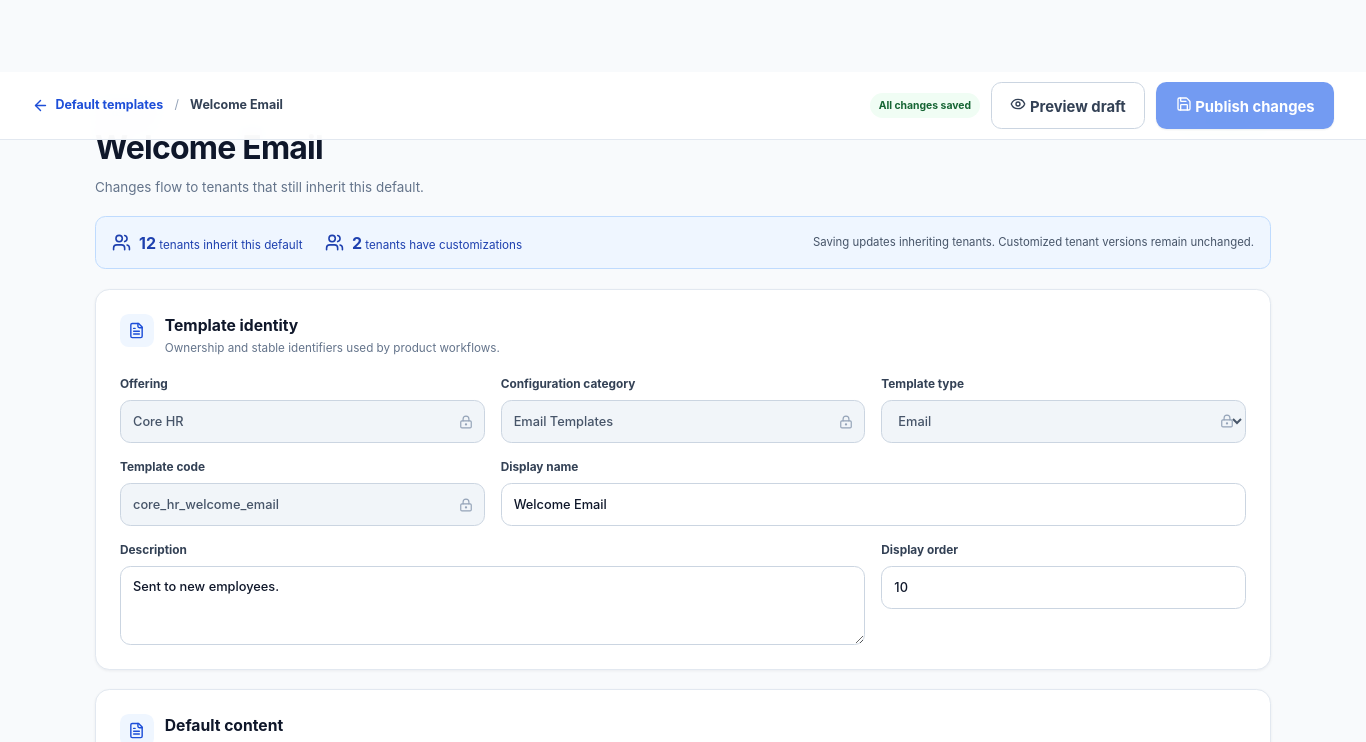
Test: DefaultTemplateEditorPage › locks immutable edit identity and protects dirty navigation
Expected: the heading "Welcome Email" is shown, [95,128,323,167]
Expected: the field labelled "Template code" is disabled, [120,483,485,526]
Clear the field labelled "Display name" at (873, 504), box [501,483,1246,526]
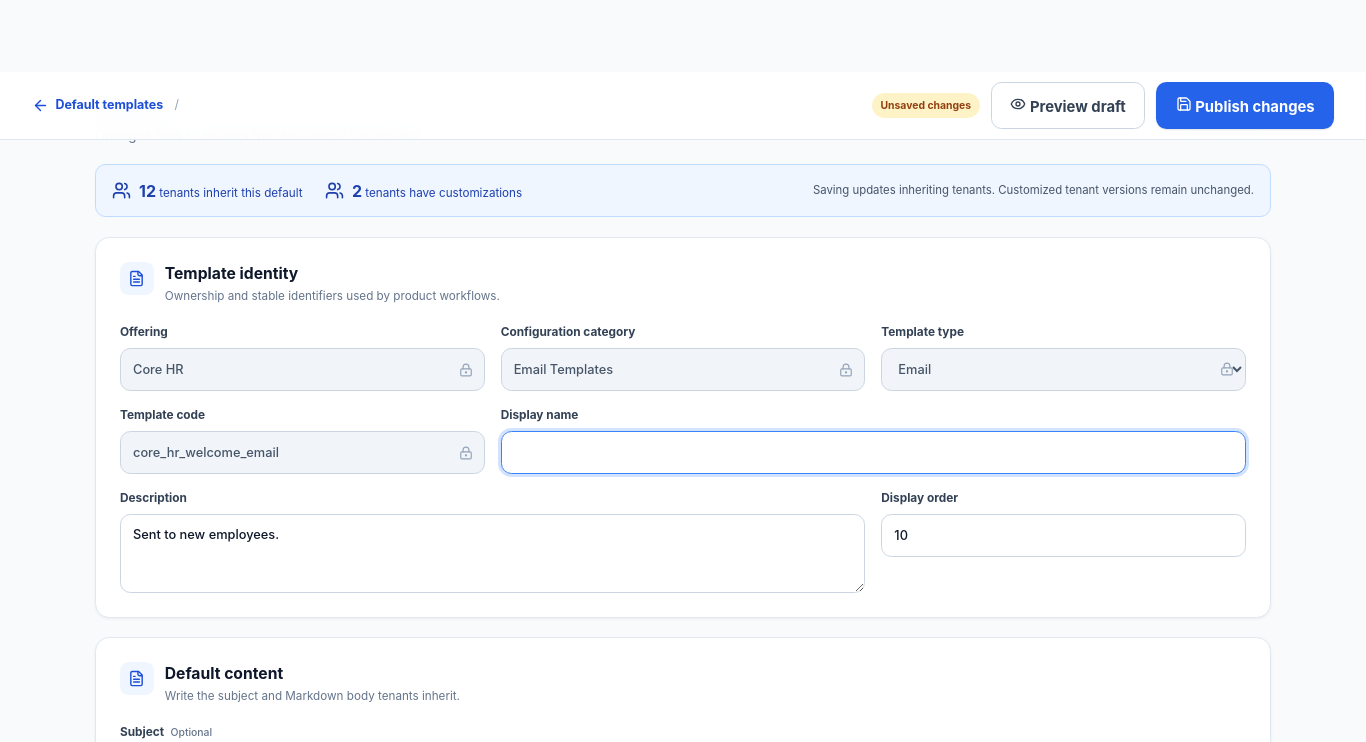
Type "Updated Welcome" into the field labelled "Display name" at (873, 452), box [501,431,1246,474]
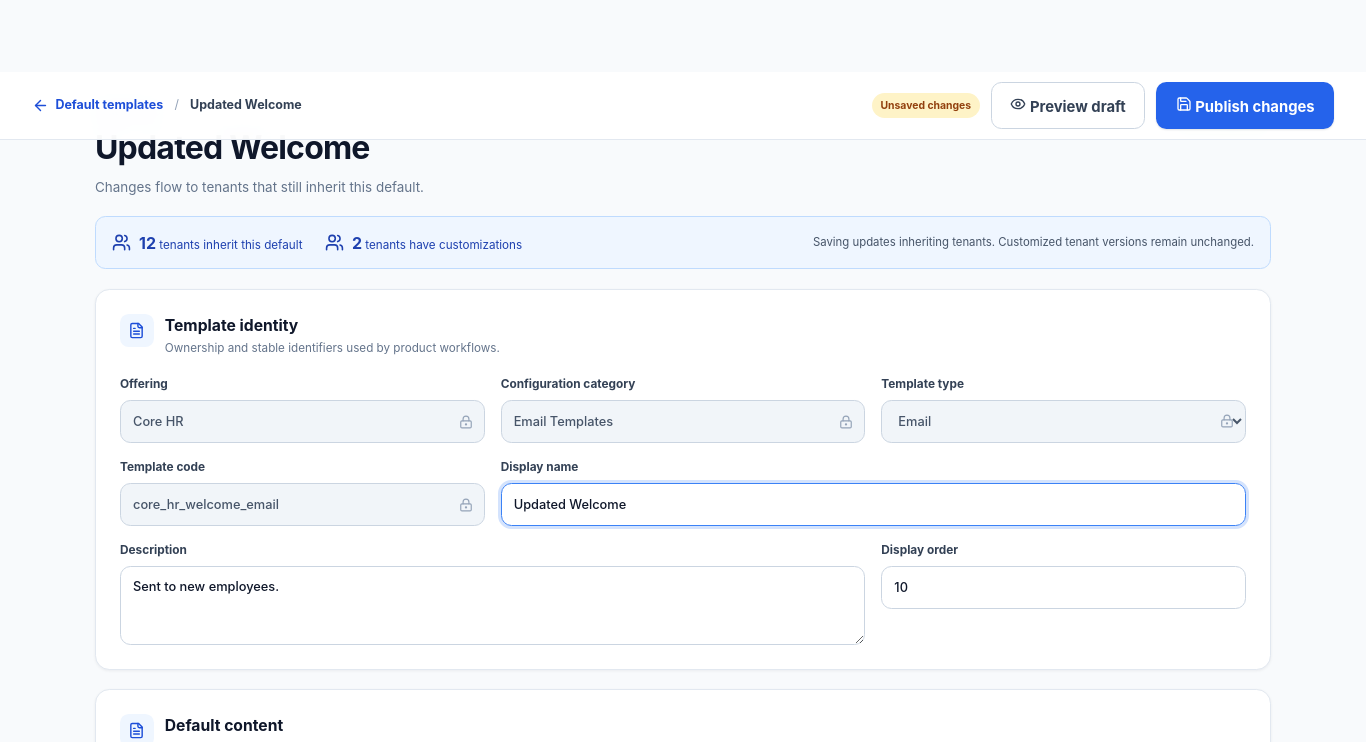
Click the link "Default templates" at (98, 106), box [32,96,163,115]
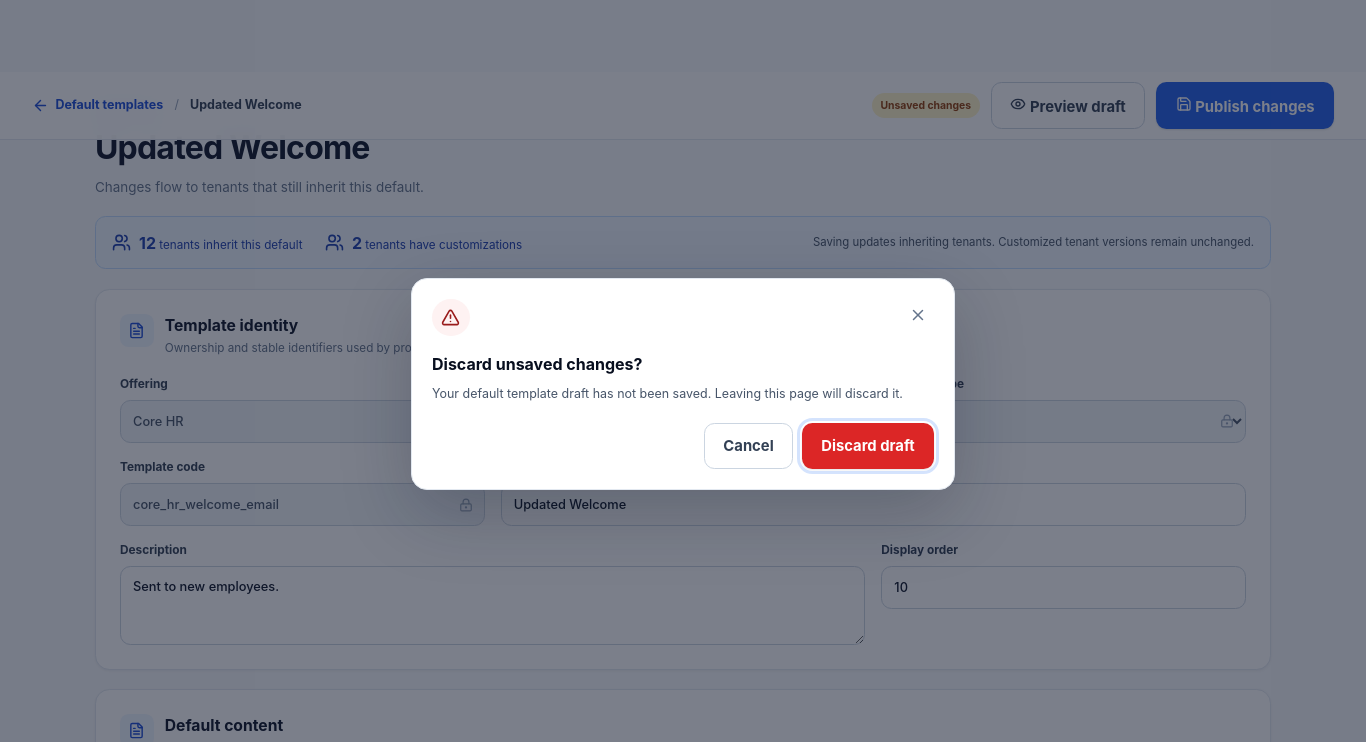
Expected: the dialog "Discard unsaved changes?" is shown, [411,278,955,490]
